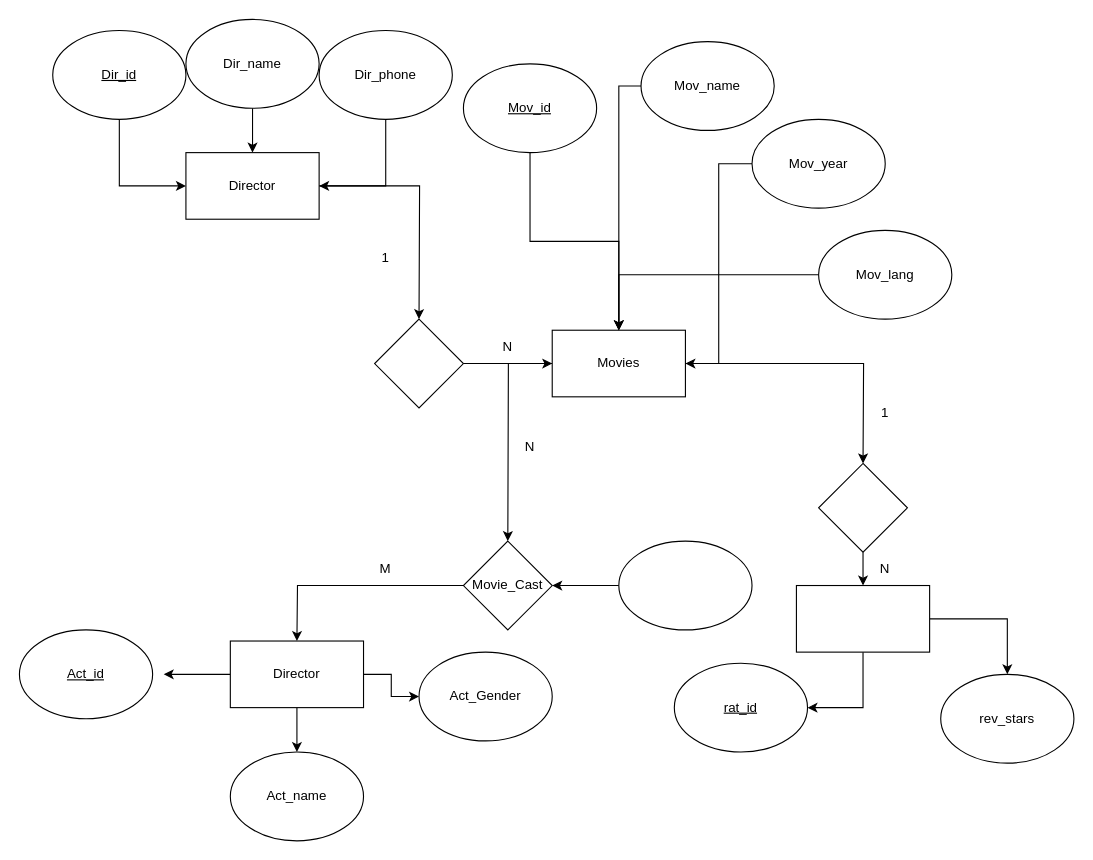
This 1093x860 diagram has some shape labels left out. The shapes that lost their labels are listed below. From the top down, each one's centre as x and y in pixels, then its label:
[418,363]: Directs
[862,507]: Has
[685,585]: Role
[862,618]: Rating
